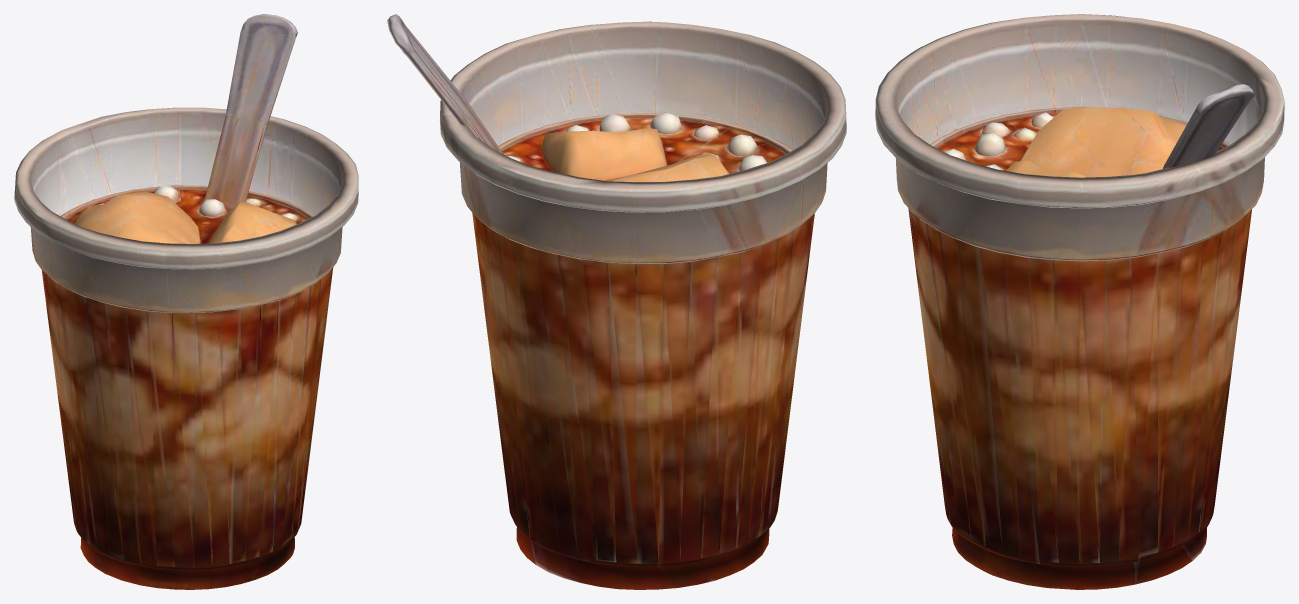
Rendered from taho.glb.
3 renders of one model, left to right at view 1: azimuth 30°, elevation 25°; view 2: azimuth 150°, elevation 25°; view 3: azimuth 270°, elevation 25°, orthographic. The views are drawn at different scales.
Visible parts, largest first — view 1: geometry_0; view 2: geometry_0; view 3: geometry_0.
Boxes of the visible parts, box(x1,y1,x2,y2) form: geometry_0: box(14, 14, 358, 589); geometry_0: box(387, 14, 846, 589); geometry_0: box(875, 14, 1284, 589).
Bounding box in the file's own units: 0.7298 × 1 × 0.6971.
1 material, 1 textured.
